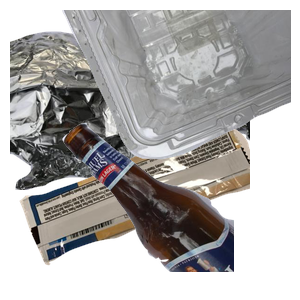glass: (60, 120, 300, 300)
metal: (10, 10, 250, 190)
plastic: (60, 10, 300, 162)
trash: (17, 123, 257, 300)
